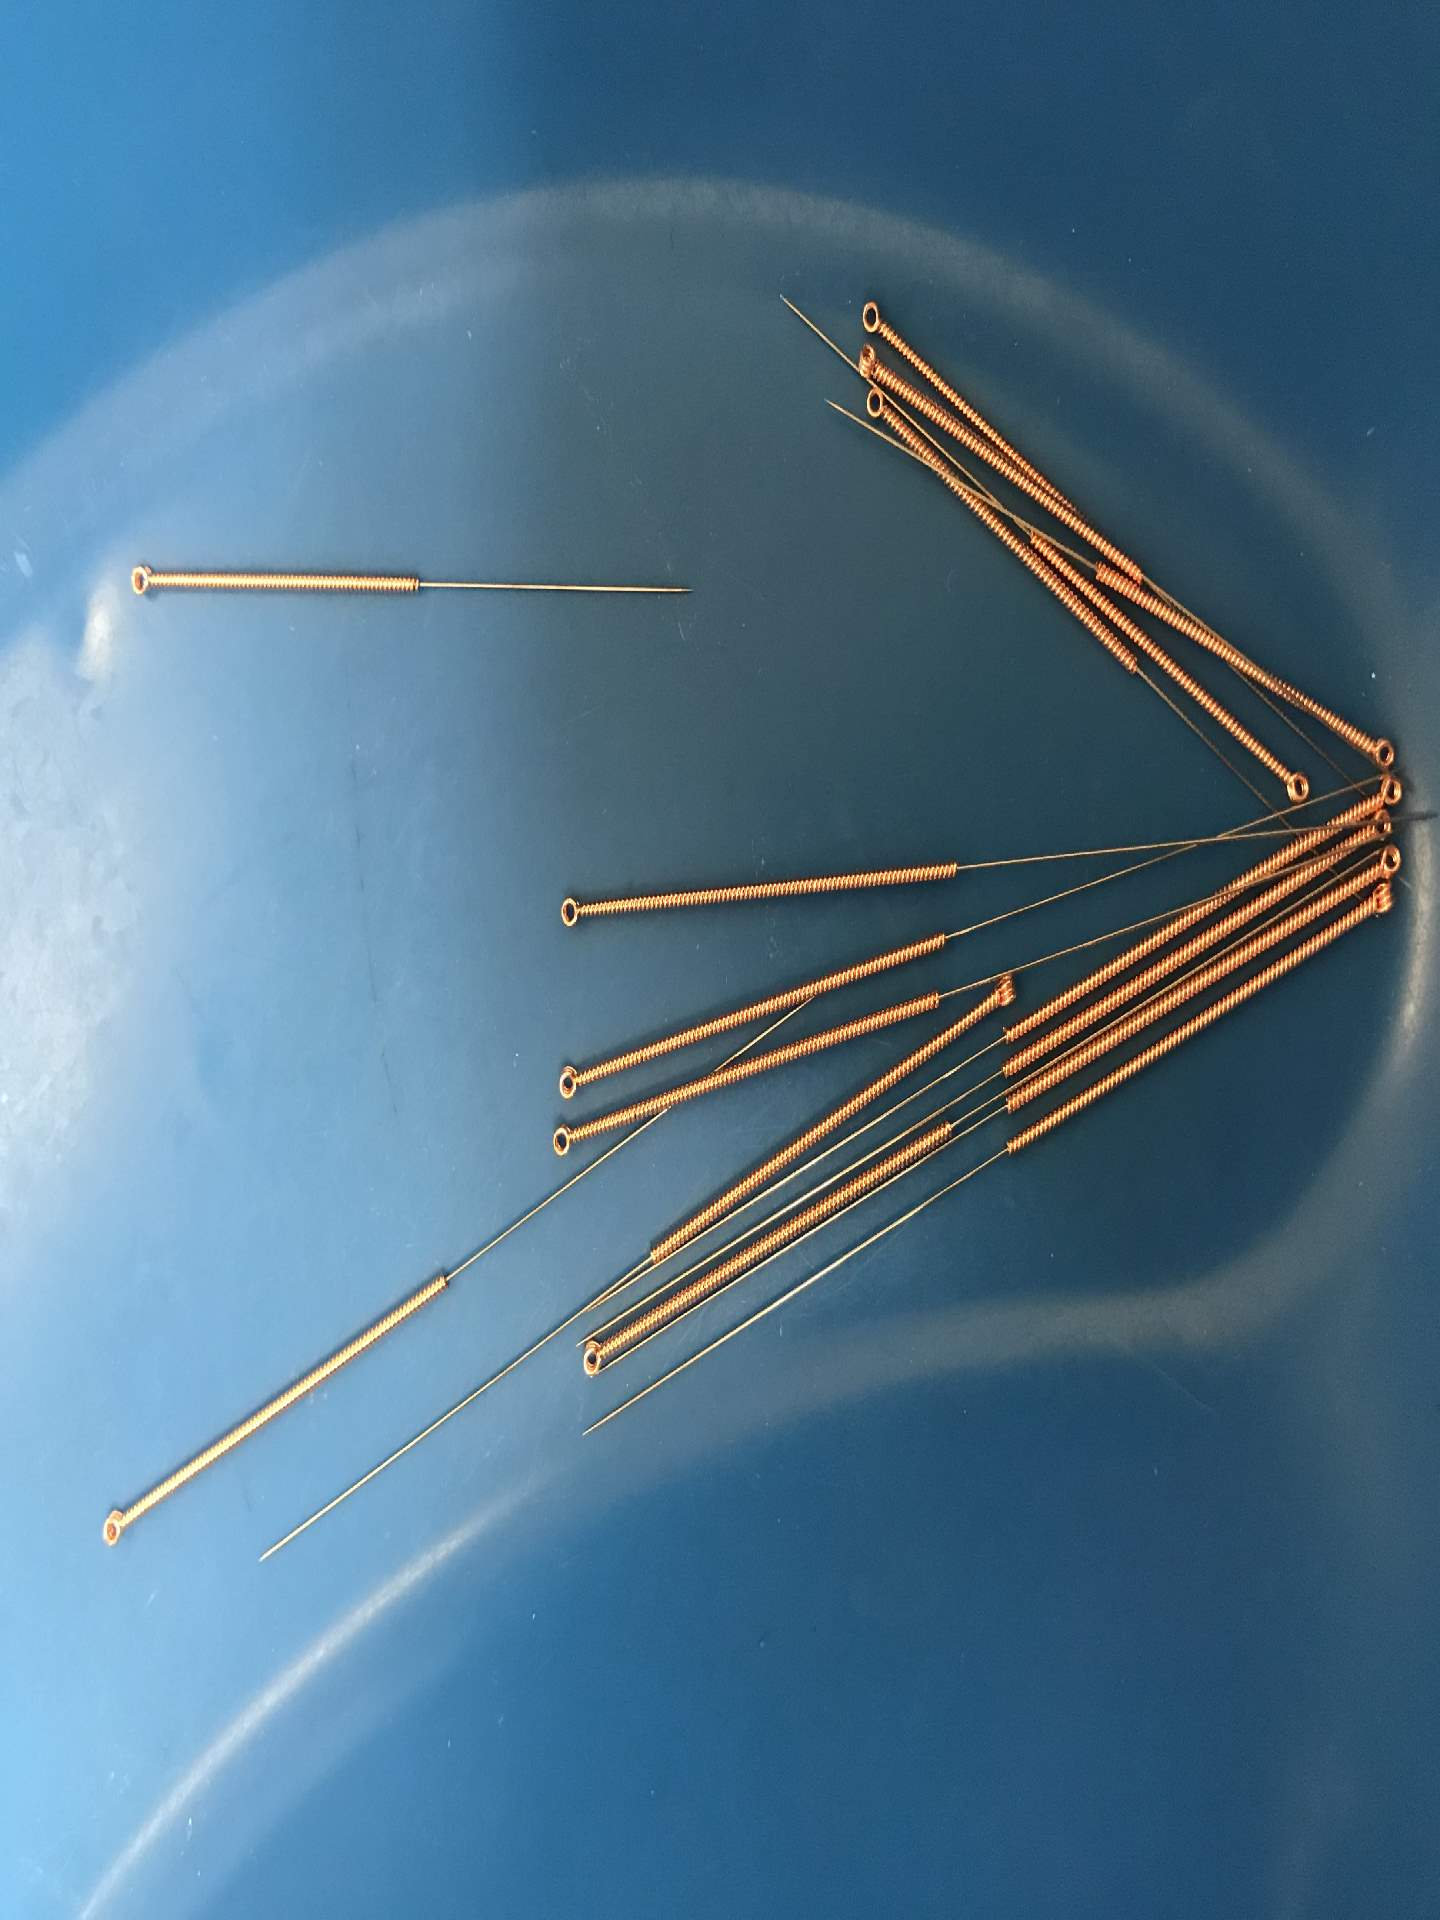needle: (567, 1321, 625, 1386), (89, 1495, 144, 1559), (113, 550, 171, 608), (846, 289, 903, 346), (1346, 721, 1405, 776), (538, 1113, 594, 1166), (1265, 756, 1317, 812), (545, 884, 597, 939), (976, 962, 1032, 1013), (545, 1051, 594, 1108), (1358, 872, 1407, 927), (852, 381, 898, 434), (843, 339, 894, 386), (1360, 768, 1410, 813), (1364, 838, 1410, 884), (1360, 804, 1399, 847)
